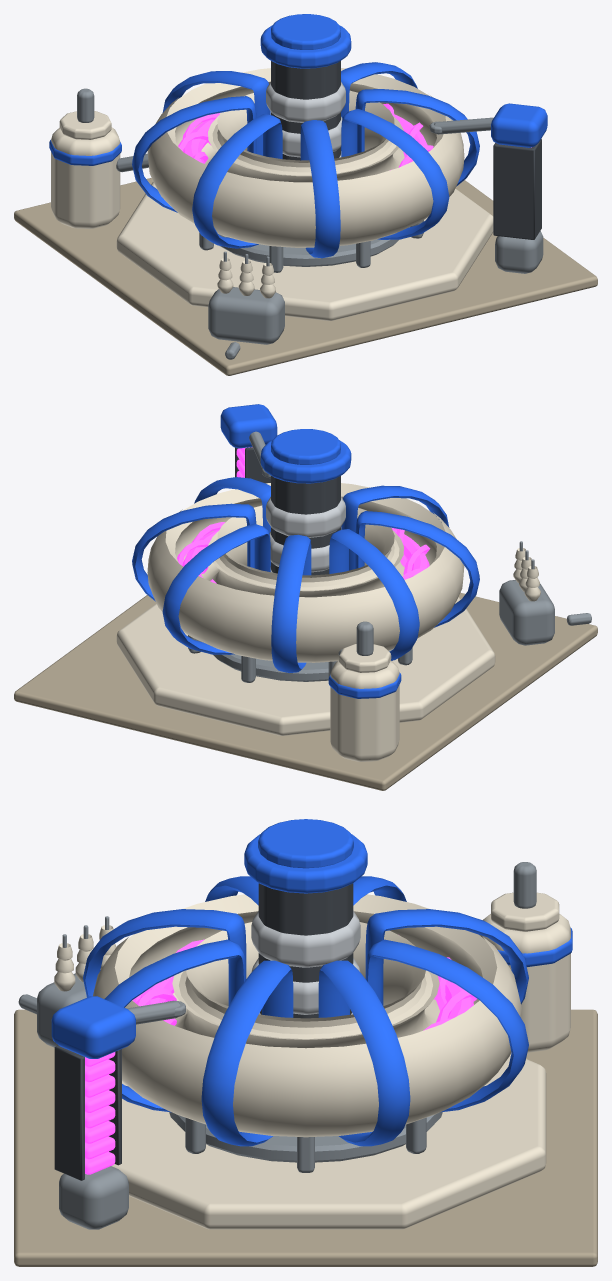
Rendered from fusion_reactor.glb.
3 views of the same model, one above another, from view 1: azimuth 30°, elevation 25°; view 2: azimuth 150°, elevation 25°; view 3: azimuth 270°, elevation 25° (orthographic). The views are drawn at different scales.
Visible parts, largest first — view 1: stage_2__M_CreamPlastic, stage_1__M_CreamPlastic, stage_0__M_SugarPad, stage_2__M_Team, stage_1__M_SpringSteel, stage_2__M_SmokePlastic, stage_3__M_Team, stage_3__M_Foil, stage_2__M_SpringSteel, plasma__M_E_Magenta, stage_2__M_Foil; view 2: stage_2__M_CreamPlastic, stage_0__M_SugarPad, stage_1__M_CreamPlastic, stage_2__M_Team, stage_3__M_Team, stage_1__M_SpringSteel, stage_2__M_SmokePlastic, stage_3__M_Foil, plasma__M_E_Magenta, stage_2__M_SpringSteel, stage_2__M_Foil; view 3: stage_2__M_CreamPlastic, stage_0__M_SugarPad, stage_1__M_CreamPlastic, stage_2__M_Team, stage_3__M_Team, stage_1__M_SpringSteel, stage_2__M_SmokePlastic, stage_3__M_Foil, pellets__M_E_Magenta, stage_2__M_SpringSteel, plasma__M_E_Magenta, stage_2__M_Foil.
Boxes of the visible parts, left/top/right/bottom form: stage_2__M_CreamPlastic: left=59, top=68, right=464, bottom=298; stage_1__M_CreamPlastic: left=51, top=127, right=493, bottom=321; stage_0__M_SugarPad: left=14, top=178, right=597, bottom=375; stage_2__M_Team: left=49, top=62, right=479, bottom=258; stage_1__M_SpringSteel: left=199, top=220, right=543, bottom=359; stage_2__M_SmokePlastic: left=271, top=61, right=541, bottom=239; stage_3__M_Team: left=260, top=14, right=547, bottom=147; stage_3__M_Foil: left=266, top=82, right=345, bottom=122; stage_2__M_SpringSteel: left=77, top=88, right=493, bottom=266; plasma__M_E_Magenta: left=178, top=103, right=433, bottom=170; stage_2__M_Foil: left=282, top=116, right=342, bottom=157; stage_2__M_CreamPlastic: left=147, top=483, right=540, bottom=672; stage_0__M_SugarPad: left=14, top=592, right=597, bottom=790; stage_1__M_CreamPlastic: left=116, top=597, right=495, bottom=761; stage_2__M_Team: left=132, top=477, right=479, bottom=698; stage_3__M_Team: left=220, top=404, right=351, bottom=483; stage_1__M_SpringSteel: left=188, top=580, right=591, bottom=682; stage_2__M_SmokePlastic: left=235, top=447, right=340, bottom=575; stage_3__M_Foil: left=266, top=497, right=345, bottom=537; plasma__M_E_Magenta: left=177, top=522, right=430, bottom=583; stage_2__M_SpringSteel: left=249, top=431, right=534, bottom=655; stage_2__M_Foil: left=269, top=531, right=329, bottom=572; stage_2__M_CreamPlastic: left=54, top=892, right=559, bottom=1137; stage_0__M_SugarPad: left=14, top=1009, right=597, bottom=1266; stage_1__M_CreamPlastic: left=111, top=914, right=570, bottom=1229; stage_2__M_Team: left=83, top=876, right=572, bottom=1146; stage_3__M_Team: left=51, top=819, right=367, bottom=1058; stage_1__M_SpringSteel: left=18, top=973, right=442, bottom=1229; stage_2__M_SmokePlastic: left=54, top=883, right=353, bottom=1180; stage_3__M_Foil: left=251, top=911, right=360, bottom=967; pellets__M_E_Magenta: left=85, top=1052, right=115, bottom=1174; stage_2__M_SpringSteel: left=62, top=862, right=536, bottom=1024; plasma__M_E_Magenta: left=132, top=939, right=476, bottom=1030; stage_2__M_Foil: left=251, top=958, right=360, bottom=1014.
Bounding box in the file's own units: 2.92 × 1.7 × 2.92.
